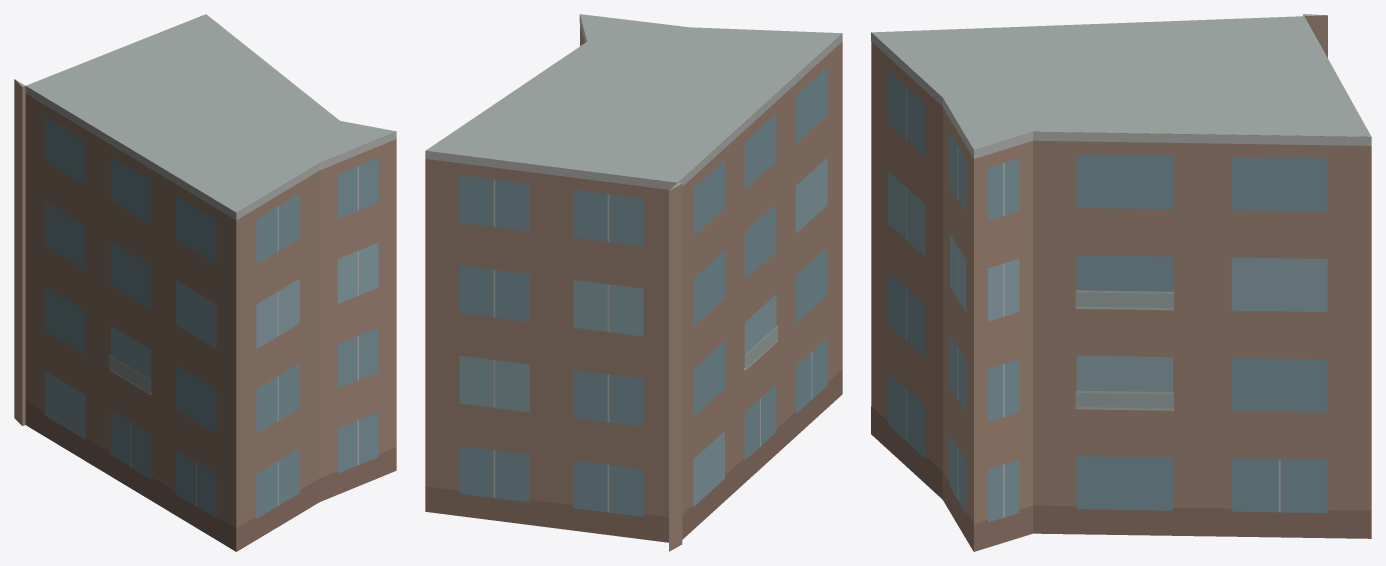
Rendered from survey-upis-32495187.glb.
3 views of the same model, side by side, from view 1: azimuth 30°, elevation 25°; view 2: azimuth 150°, elevation 25°; view 3: azimuth 270°, elevation 25° (orthographic). The views are drawn at different scales.
Parts seen in each view (by area): view 1: survey-upis-32495187.tmp; view 2: survey-upis-32495187.tmp; view 3: survey-upis-32495187.tmp.
Part boxes in pixels (<box>): survey-upis-32495187.tmp: <box>14,14,396,551</box>; survey-upis-32495187.tmp: <box>425,14,842,551</box>; survey-upis-32495187.tmp: <box>871,14,1371,551</box>.
Size of the model in its own units: 7.84 by 10.8 by 12.2.
